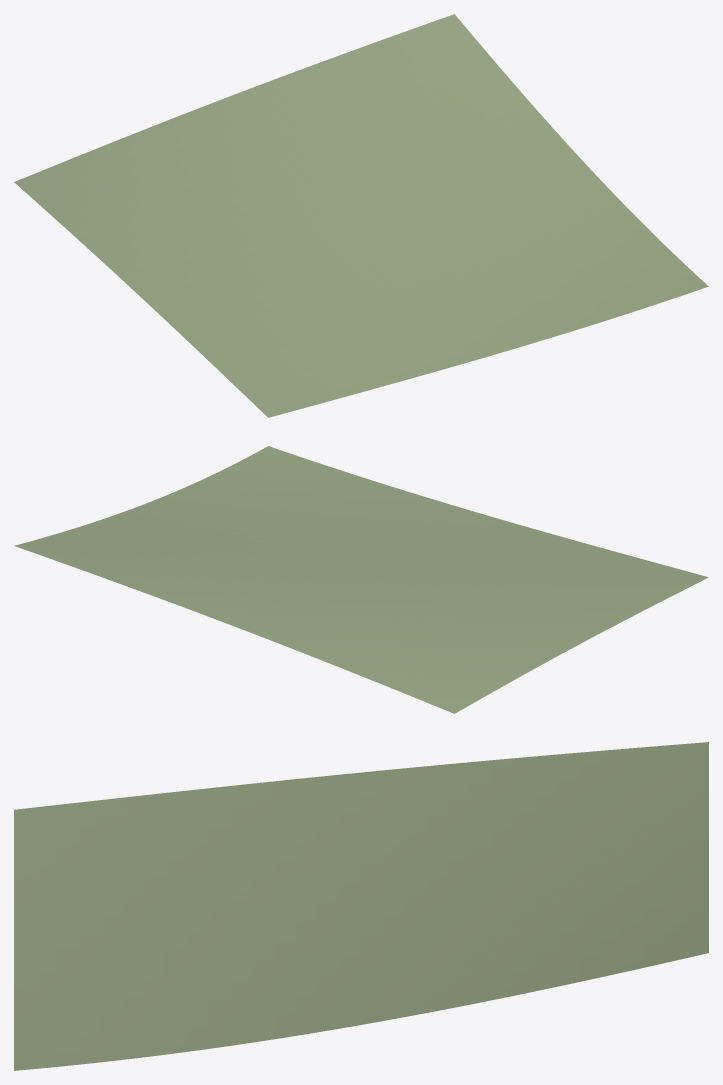
File: alpine-11-13.glb
3 renders of one model, top to bottom at view 1: azimuth 30°, elevation 25°; view 2: azimuth 150°, elevation 25°; view 3: azimuth 270°, elevation 25°, orthographic. The views are drawn at different scales.
Parts seen in each view (by area): view 1: alpine-11-13; view 2: alpine-11-13; view 3: alpine-11-13.
Boxes of the visible parts, x1,y1,x2,y2 form: alpine-11-13: (14, 14, 708, 417); alpine-11-13: (14, 446, 708, 713); alpine-11-13: (14, 742, 708, 1070).
Bounding box in the file's own units: 256 × 61.17 × 256.
